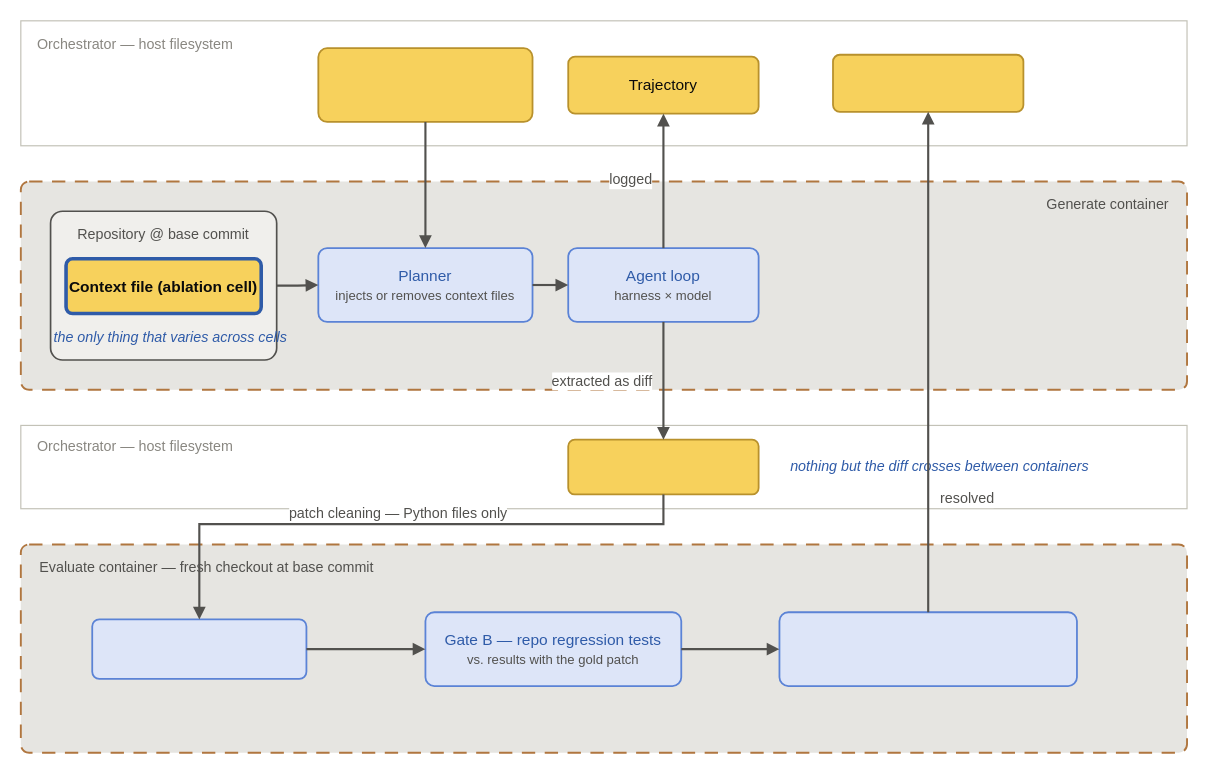
Image size: 1209x775. Some labels were removed from this diagram. The shapes that lost their labels are listed below. From the top down, each one's centre as x and y in pixels, then its label:
At (x=425, y=84): "Task one row of the CTXBENCH dataset".
At (x=928, y=82): "Report".
At (x=663, y=466): "Agent patch".
At (x=199, y=648): "Apply agent patch".
At (x=927, y=648): "Gate A — instance tests from the dataset — never seen by the agent".
